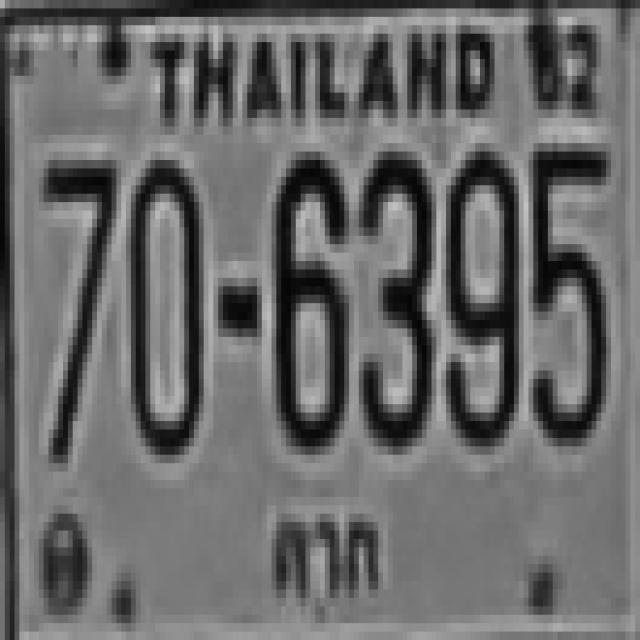0: (126, 152, 199, 446)
3: (356, 143, 429, 438)
5: (529, 135, 606, 438)
6: (272, 147, 344, 442)
7: (39, 152, 111, 454)
9: (441, 143, 514, 438)
Tak: (262, 503, 390, 611)
